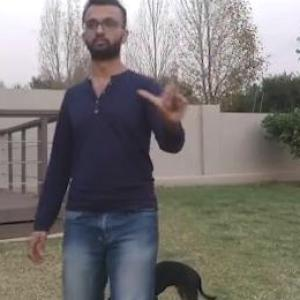land_hand: (134, 50, 194, 126)
